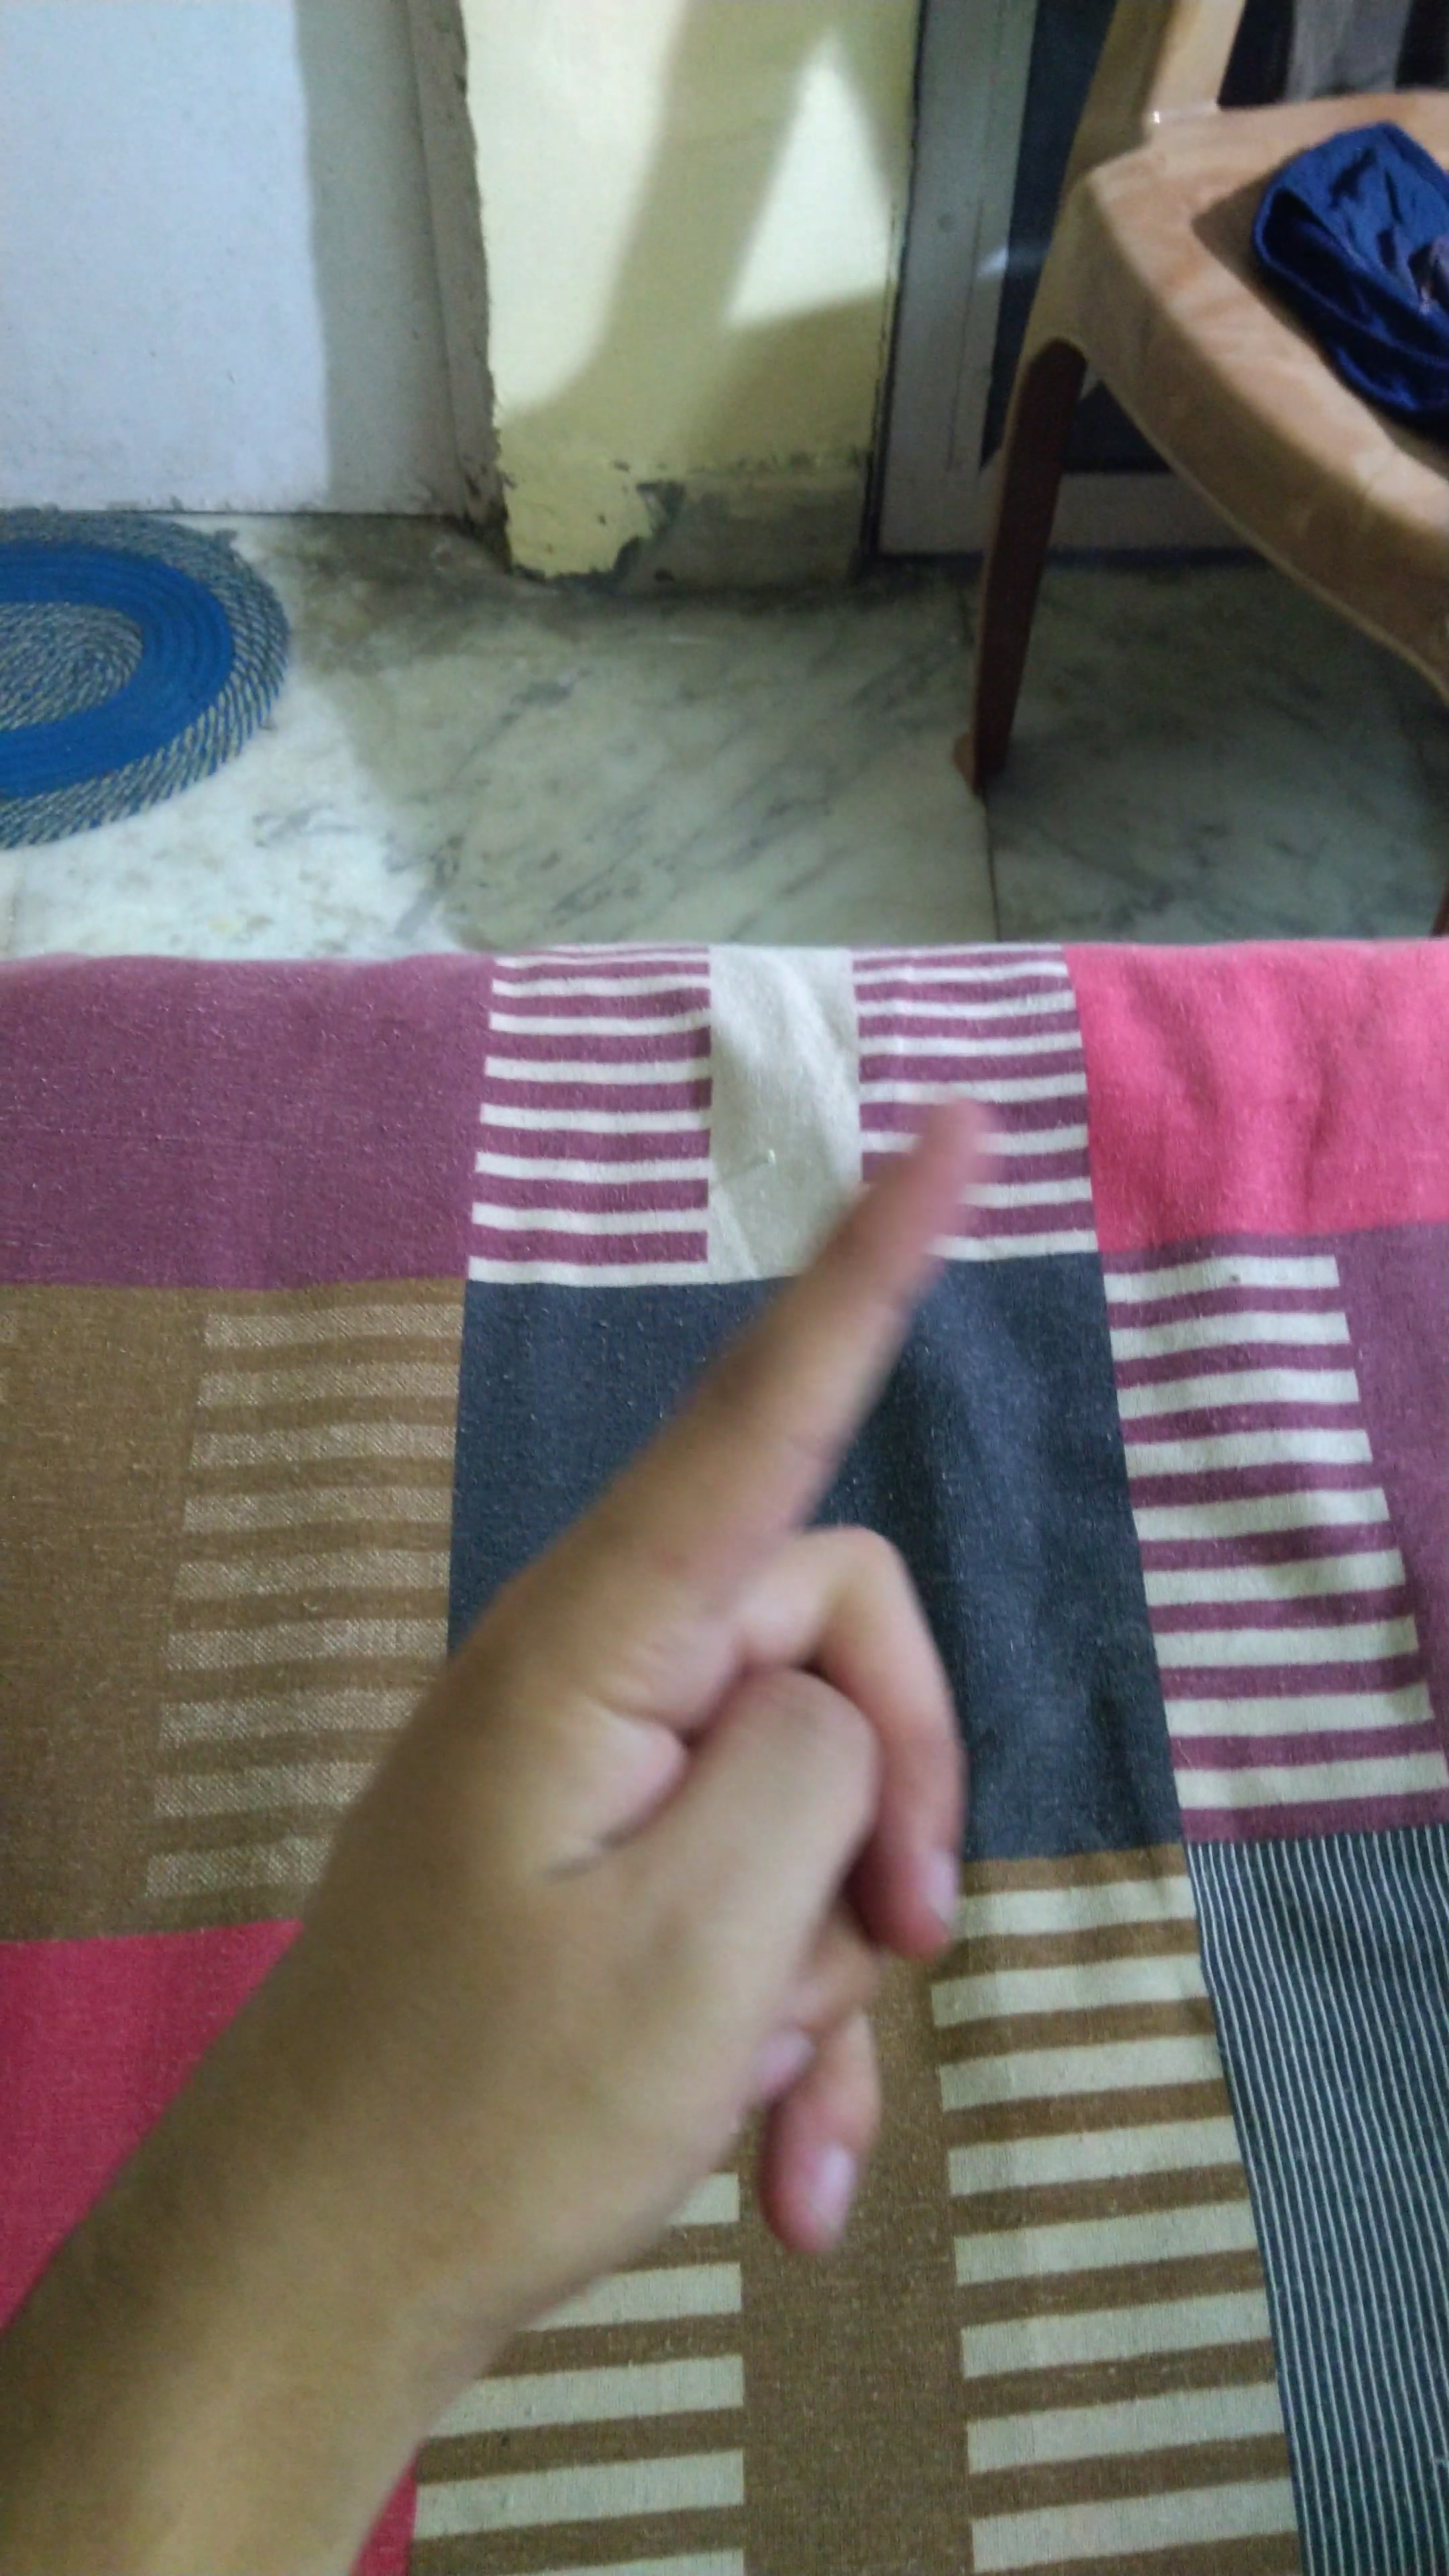hand: (269, 1030, 1054, 2304)
